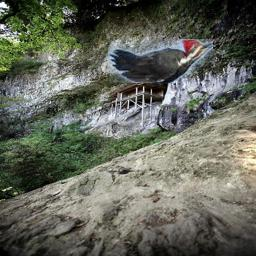Woodpecker: (108, 39, 213, 83)
